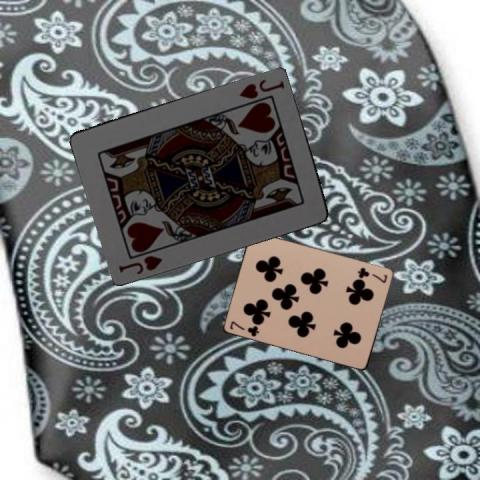7c: (227, 318, 261, 338), (354, 265, 388, 284)
Jh: (236, 76, 286, 101), (116, 252, 165, 275)
